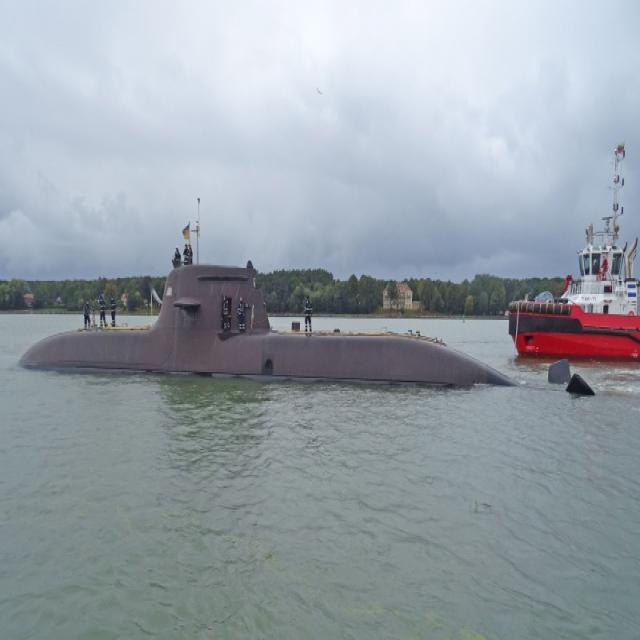submarine: (12, 241, 592, 392)
